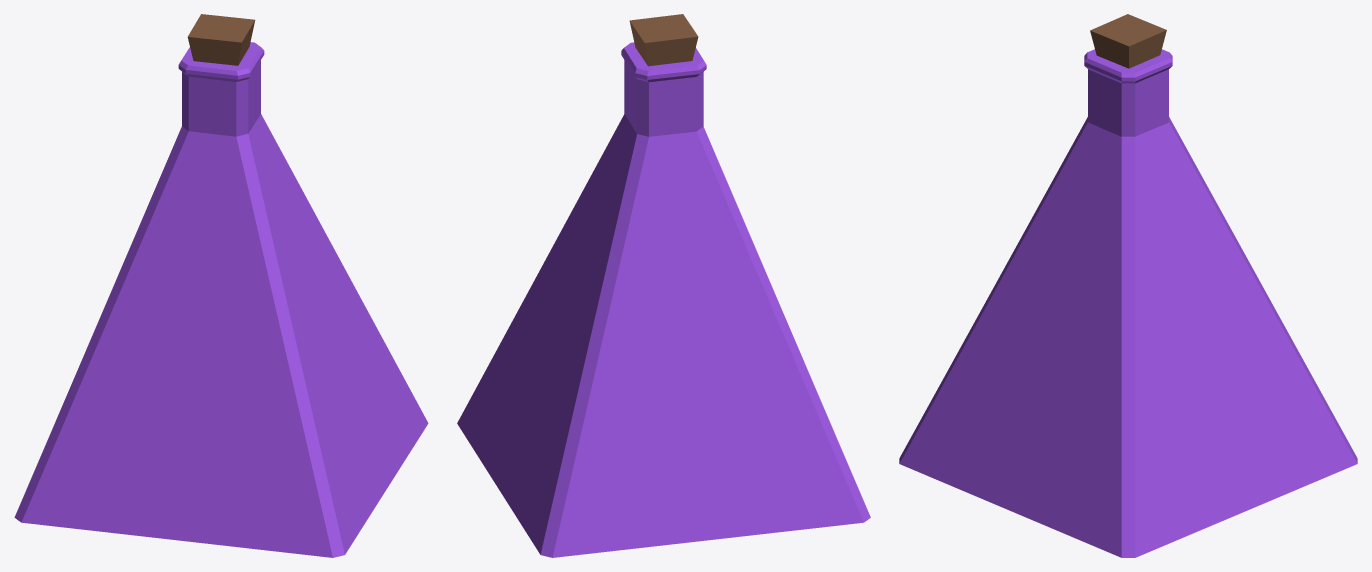
The model's file is Potion_04_Purple.fbx.
3 views of the same model, side by side, from view 1: azimuth 30°, elevation 25°; view 2: azimuth 150°, elevation 25°; view 3: azimuth 270°, elevation 25° (orthographic). The views are drawn at different scales.
Visible parts, largest first — view 1: Cone.022, Cube.050, Cube.051; view 2: Cone.022, Cube.050, Cube.051; view 3: Cone.022, Cube.050, Cube.051.
Part boxes in pixels (x1,y1,x2,y2): Cone.022: (14, 114, 428, 557); Cube.050: (178, 42, 264, 136); Cube.051: (187, 14, 255, 65); Cone.022: (457, 114, 870, 557); Cube.050: (621, 42, 706, 136); Cube.051: (629, 14, 698, 66); Cone.022: (899, 117, 1357, 557); Cube.050: (1084, 49, 1172, 136); Cube.051: (1090, 14, 1166, 68).
Size of the model in its own units: 31.08 by 32.26 by 31.08.
